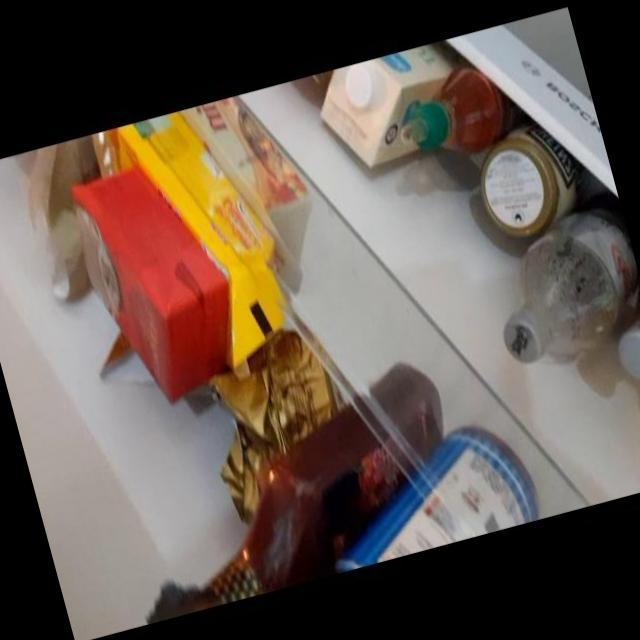Mantequilla: (122, 84, 327, 342)
